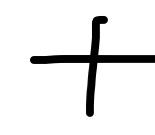plus: (31, 17, 155, 115)
